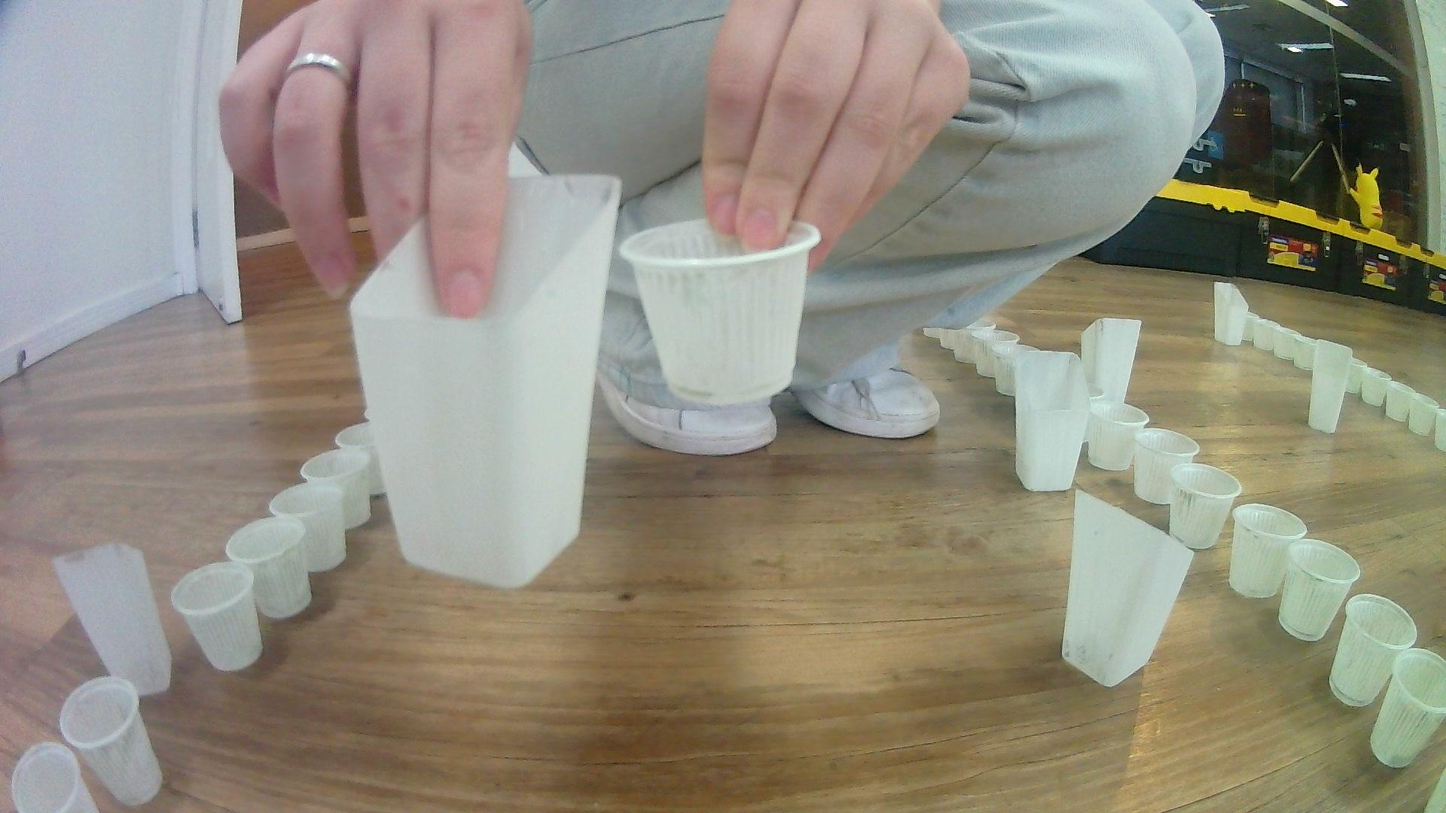erva_daninha: (346, 169, 621, 592), (1058, 486, 1194, 689), (53, 542, 173, 699), (1009, 349, 1092, 494), (1080, 317, 1143, 410), (1305, 338, 1355, 436), (1213, 281, 1255, 346)
planta: (618, 214, 822, 410), (58, 674, 163, 808), (169, 561, 264, 674), (1329, 592, 1419, 708), (1369, 646, 1446, 770), (223, 516, 313, 620), (1277, 538, 1362, 644), (1228, 502, 1307, 599), (267, 481, 347, 574), (1168, 462, 1243, 551), (11, 741, 100, 813), (300, 448, 372, 531), (1131, 428, 1200, 505), (1084, 401, 1151, 472), (333, 420, 384, 496), (993, 343, 1041, 396), (973, 333, 1021, 379), (953, 326, 997, 364), (1408, 393, 1442, 436), (1360, 368, 1392, 406), (1384, 381, 1413, 422), (1271, 324, 1301, 361), (1252, 317, 1282, 350), (1292, 334, 1319, 370), (939, 327, 966, 360), (1345, 358, 1368, 395), (923, 326, 955, 349), (1435, 407, 1446, 452), (970, 316, 996, 331)
